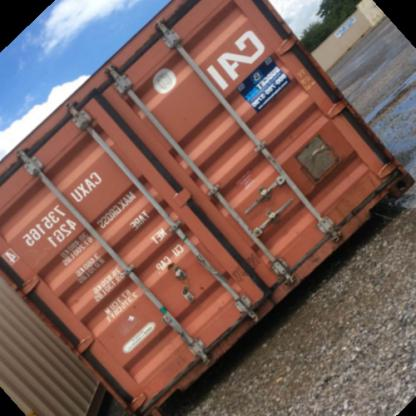Damage: (323, 169, 399, 204), (217, 245, 270, 286)
